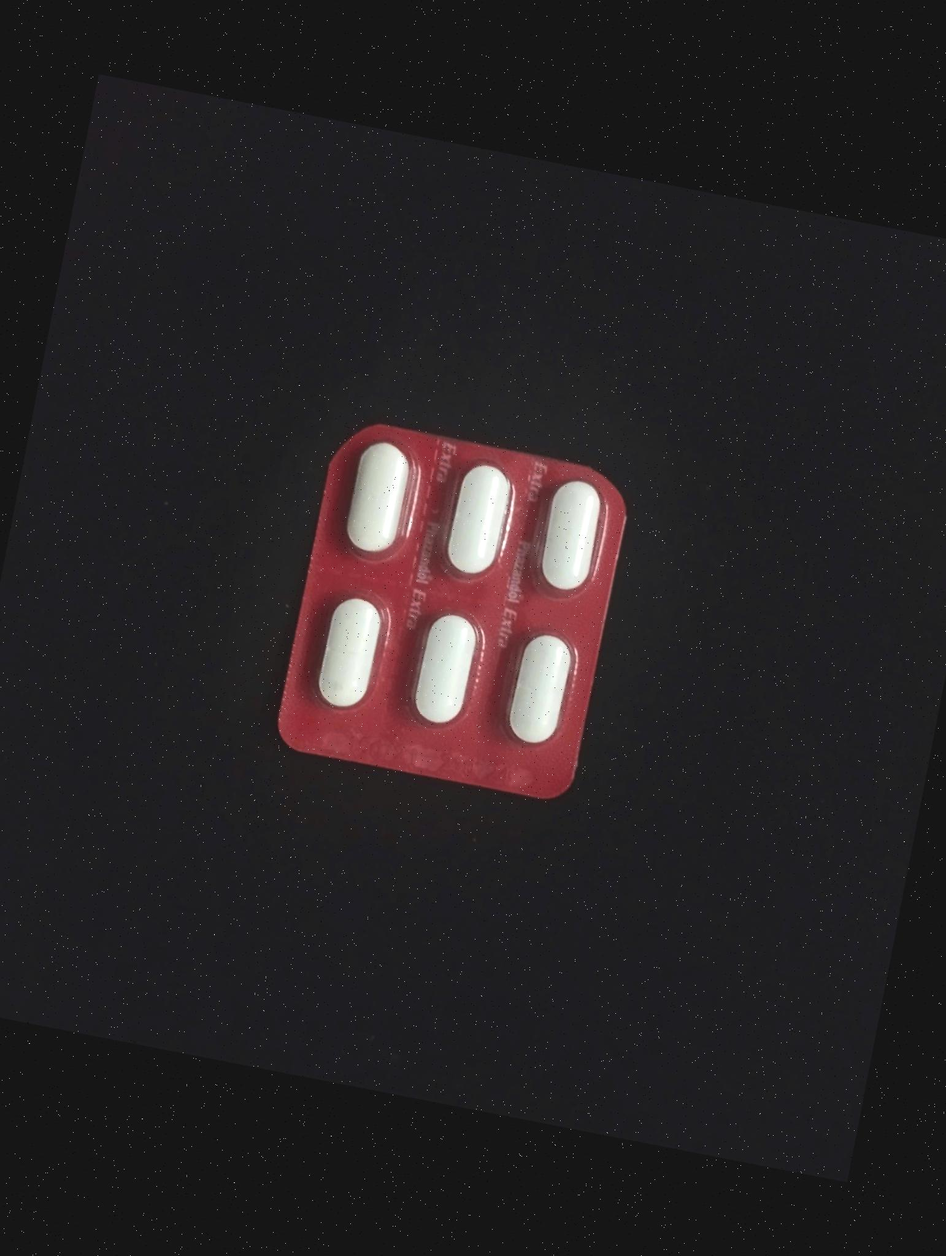Full: (488, 617, 586, 757), (431, 451, 528, 592), (520, 470, 616, 608), (394, 603, 487, 739), (309, 580, 394, 719), (337, 438, 420, 567)
